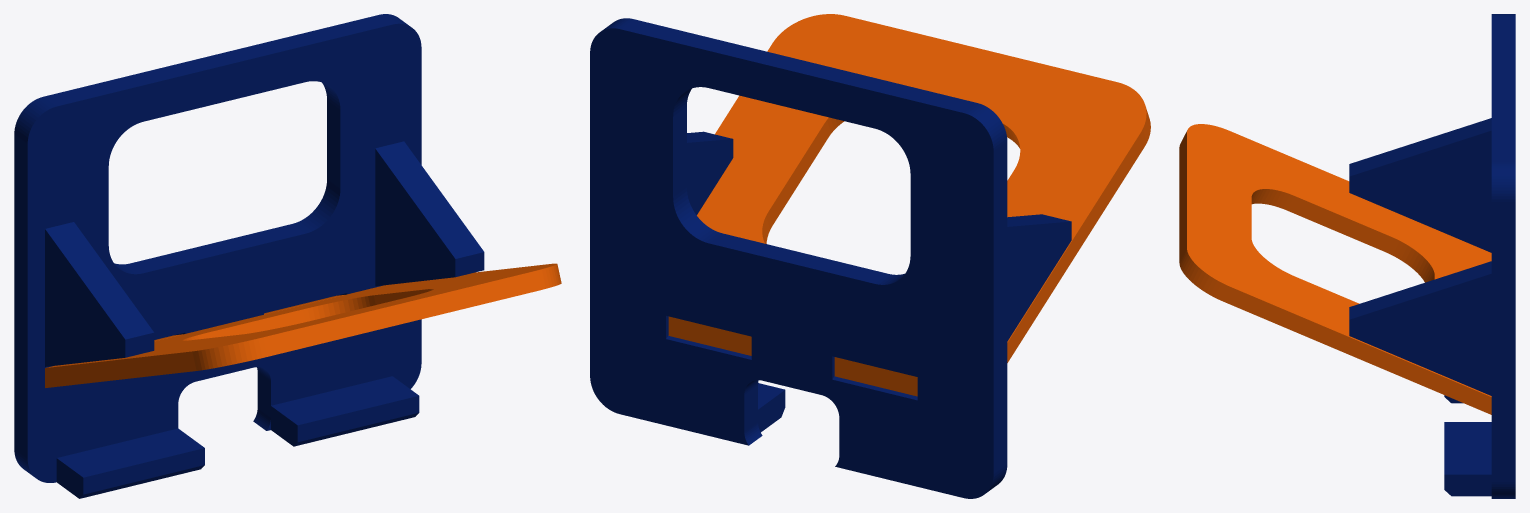
File: soporte_color.obj
3 renders of one model, left to right at view 1: azimuth 30°, elevation 25°; view 2: azimuth 150°, elevation 25°; view 3: azimuth 270°, elevation 25°, orthographic. The views are drawn at different scales.
Visible parts, largest first — view 1: base, respaldo; view 2: base, respaldo; view 3: base, respaldo.
Boxes of the visible parts, x1,y1,x2,y2 form: base: (14, 14, 484, 498); respaldo: (45, 263, 561, 387); base: (590, 18, 1071, 498); respaldo: (668, 14, 1150, 396); base: (1349, 14, 1515, 498); respaldo: (1179, 124, 1491, 414).
Bounding box in the file's own units: 68 × 62 × 56.57.
